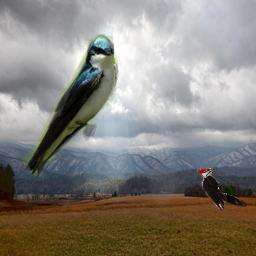Swallow: (23, 34, 119, 180)
Woodpecker: (196, 168, 247, 212)
